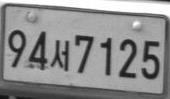1: (97, 37, 117, 76)
2: (118, 38, 137, 78)
4: (27, 30, 48, 70)
5: (140, 40, 160, 80)
7: (74, 33, 94, 74)
9: (7, 28, 27, 68)
서: (50, 39, 70, 72)
